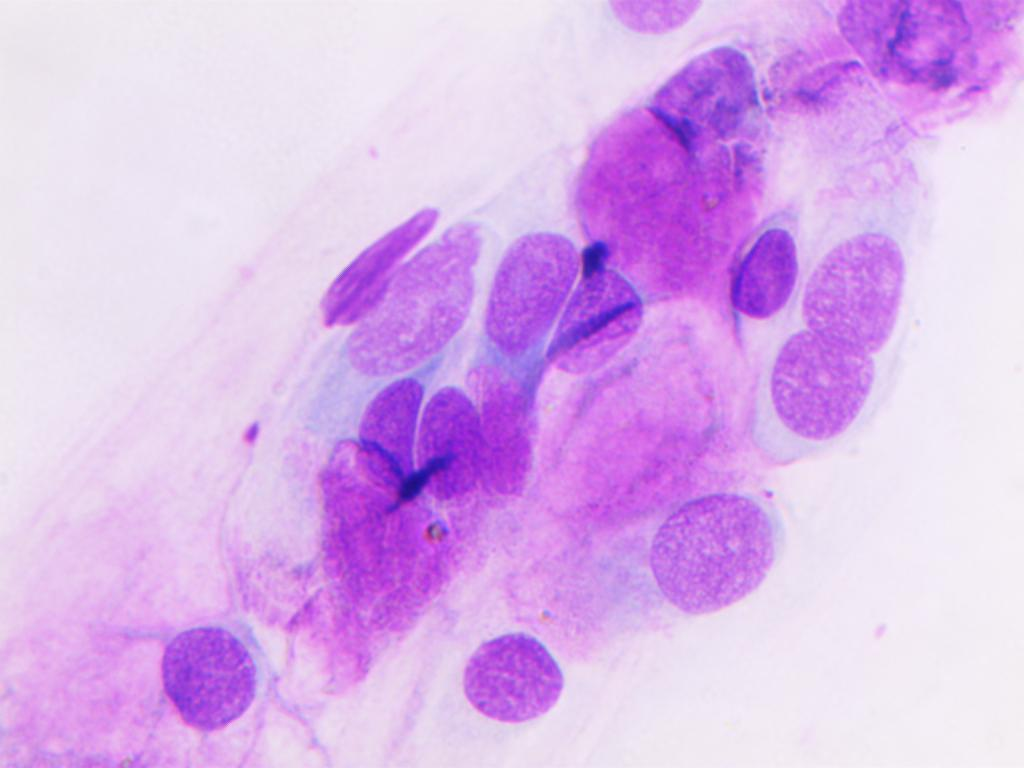artifact: (317, 187, 492, 376)
epithelial: (598, 490, 786, 622), (118, 599, 287, 743), (547, 238, 653, 383), (481, 204, 578, 358), (807, 220, 904, 370), (759, 329, 880, 446), (453, 632, 578, 732), (426, 393, 490, 514), (571, 0, 718, 52)
goblet_cell: (605, 48, 756, 233), (642, 216, 803, 323), (354, 372, 422, 507)
